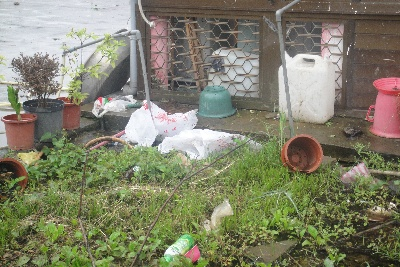bottle: (162, 233, 194, 262)
bowl: (69, 29, 130, 101), (280, 134, 324, 174), (196, 84, 237, 118), (183, 242, 200, 261)
bucket: (277, 51, 334, 124), (367, 91, 400, 138)
plastic_bag: (125, 100, 194, 140), (157, 129, 239, 157), (93, 96, 128, 111)
plate: (373, 77, 400, 95)
